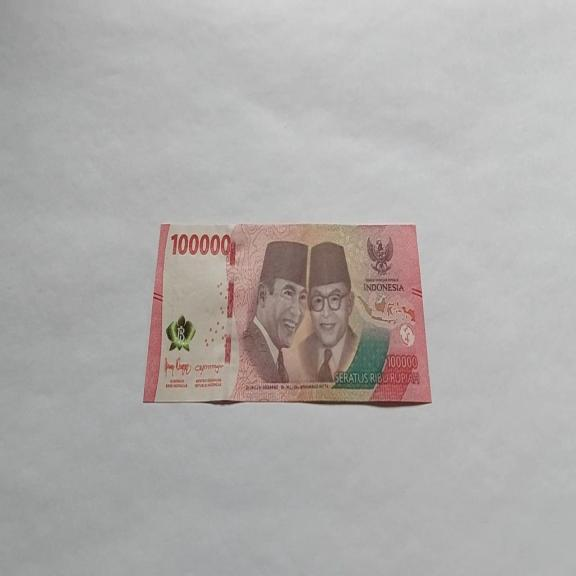Kertas: (142, 220, 432, 406), (170, 230, 232, 258)
